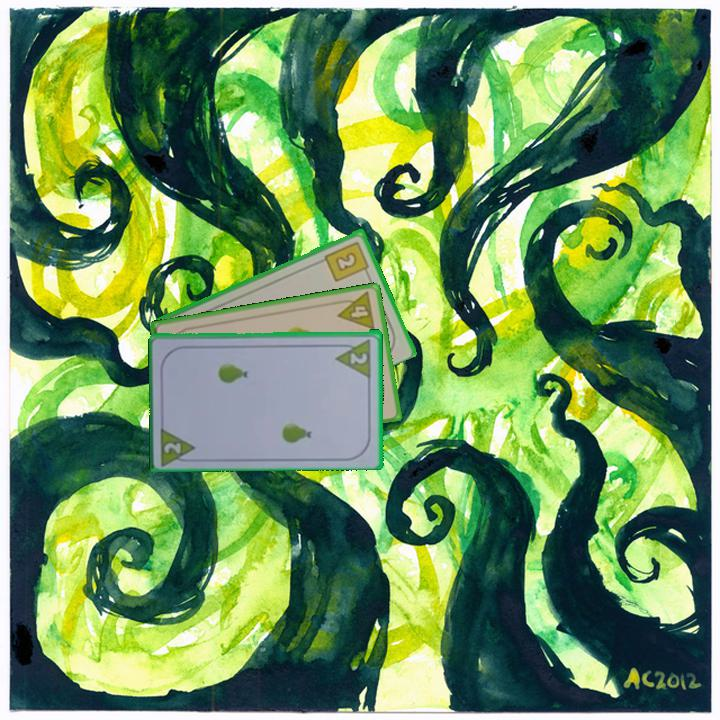2b: (321, 238, 372, 284)
2p: (333, 335, 374, 378), (161, 439, 184, 456)
4p: (332, 288, 378, 333)
